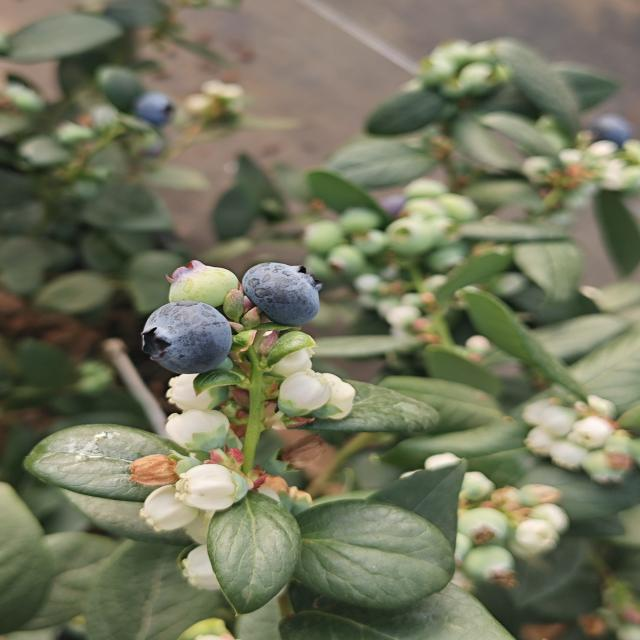ripe: (138, 299, 235, 376), (239, 260, 324, 328), (130, 88, 178, 132), (586, 108, 640, 147), (364, 185, 417, 223)
